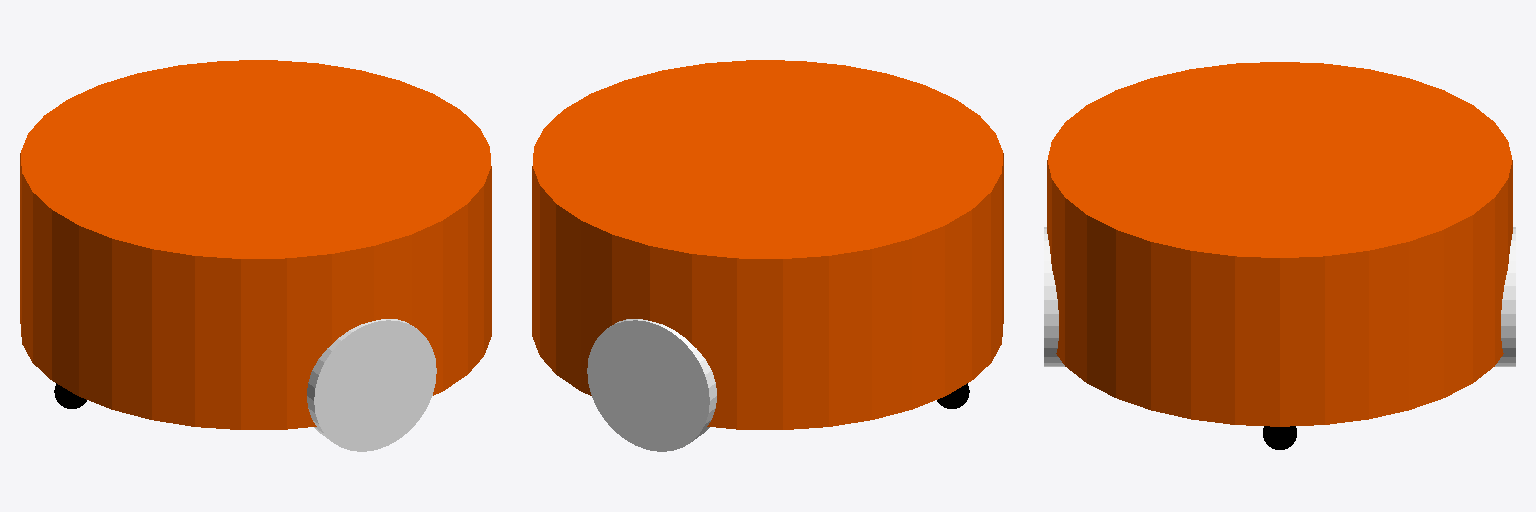
robot.urdf — mbot:
<?xml version="1.0" ?>

<robot name="mbot">
        <link name="base_link">
          <visual>
            <origin xyz="0 0 0" rpy="0 0 0"/>
            <geometry>
                <cylinder length="0.16" radius="0.20"/>
                    <!-- <name>"cylinder"></name> -->
                    <!-- <length>0.16</length> -->
                    <!-- <radius>0.20</radius> -->
                <!-- </cylinder> -->
            </geometry>
            <material name="yellow">
                <color rgba="1 0.4 0 1" />
            </material>
          </visual>
        </link>


    <joint name="right_wheel_joint" type="continuous">
        <origin xyz="0 -0.19 -0.05" rpy="0 0 0"/>
        <parent link="base_link"/>
        <child link="right_wheel_link"/>
        <axis xyz="0 1 0"/>
    </joint>

    <link name="right_wheel_link">
        <visual>
            <origin xyz="0 0 0" rpy="1.5707 0 0" />
            <geometry>
                <cylinder radius="0.06" length="0.025" />
            </geometry>
            <material name="white">
                <color rgba="1 1 1 0.9" />
            </material>
        </visual>
    </link>

    <joint name="left_wheel_joint" type="continuous">
        <origin xyz="0 0.19 -0.05" rpy="0 0 0"/>
        <parent link="base_link"/>
        <child link="left_wheel_link"/>
        <axis xyz="0 1 0"/>
    </joint>

    <link name="left_wheel_link">
        <visual>
            <origin xyz="0 0 0" rpy="1.5707 0 0" />
            <geometry>
                <cylinder radius="0.06" length="0.025" />
            </geometry>
            <material name="white">
                <color rgba="1 1 1 0.9" />
            </material>
        </visual>
    </link>

    <link name="backward_wheel_link">
        <visual>
            <origin xyz="0 0 0" rpy="0 0 0" />
            <geometry>
                <sphere radius="0.015"/>
            </geometry>
            <material name="black">
                <color rgba="0 0 0 0.95" />
            </material>
        </visual>
    </link>
    
    <joint name="backward_wheel_joint" type="continuous">
        <origin xyz="-0.18 0 -0.095" rpy="0 0 0"/>
        <parent link="base_link"/>
        <child link="backward_wheel_link"/>
        <axis xyz="0 1 0"/>
    </joint>


    <link name="front_wheel_link">
        <visual>
            <origin xyz="0 0 0" rpy="0 0 0" />
            <geometry>
                <sphere radius="0.015"/>
            </geometry>
            <material name="black">
                <color rgba="0 0 0 0.95" />
            </material>
        </visual>
    </link>
    
    <joint name="front_wheel_joint" type="continuous">
        <origin xyz="0.18 0 -0.095" rpy="0 0 0"/>
        <parent link="base_link"/>
        <child link="front_wheel_link"/>
        <axis xyz="0 1 0"/>
    </joint>

    <link name="camera_link">
        <visual>
            <origin xyz="0 0 0" rpy="0 0 0" />
            <geometry>
                <mesh filename="package://m_bot_description/meshes/kinect.dae"/>
            </geometry>
        </visual>
    </link>
    
    <joint name="camera_joint" type="fixed">
        <origin xyz="0.12 0 0.11" rpy="0 0 1.5707"/>
        <parent link="base_link"/>
        <child link="camera_link"/>
    </joint>
</robot>

--- Facts derived from the render (not from the file) ---
Views: 3 orthographic renders of the robot side by side, from view 1: azimuth 30°, elevation 25°; view 2: azimuth 150°, elevation 25°; view 3: azimuth 270°, elevation 25°.
Robot: mbot — 6 links, 5 joints (4 continuous, 1 fixed); root link base_link; default pose: every joint at zero.
Visible links, largest first — view 1: base_link, right_wheel_link; view 2: base_link, left_wheel_link; view 3: base_link, right_wheel_link, left_wheel_link, front_wheel_link.
Link boxes in pixels (left/top/right/bottom): base_link: left=20, top=60, right=491, bottom=429; right_wheel_link: left=307, top=319, right=436, bottom=451; base_link: left=532, top=60, right=1003, bottom=429; left_wheel_link: left=587, top=319, right=716, bottom=451; base_link: left=1047, top=62, right=1512, bottom=426; right_wheel_link: left=1044, top=227, right=1064, bottom=366; left_wheel_link: left=1495, top=227, right=1515, bottom=366; front_wheel_link: left=1263, top=426, right=1296, bottom=449.
Size in the robot's own frame: 0.4 by 0.405 by 0.19 metres.
Meshes: 1 distinct files referenced, 0 mesh visuals loaded (none loaded); not drawn: 1 (reference not matched to a file when rendering).